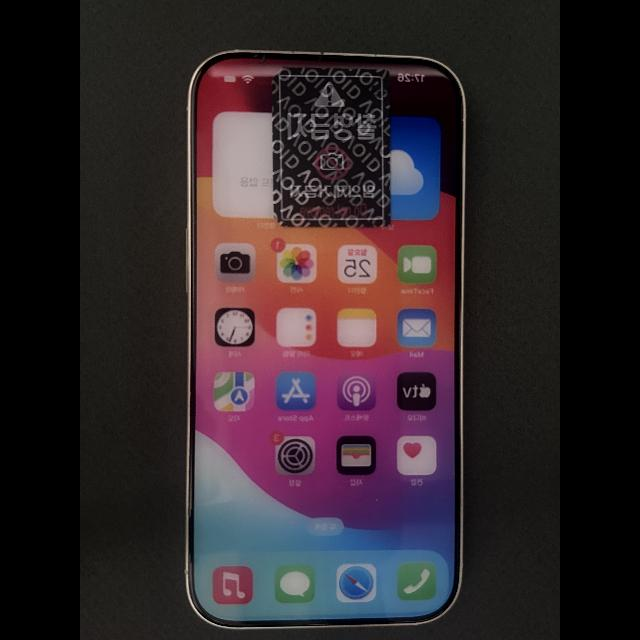phone: (186, 50, 465, 627)
sticker: (271, 66, 390, 228)
